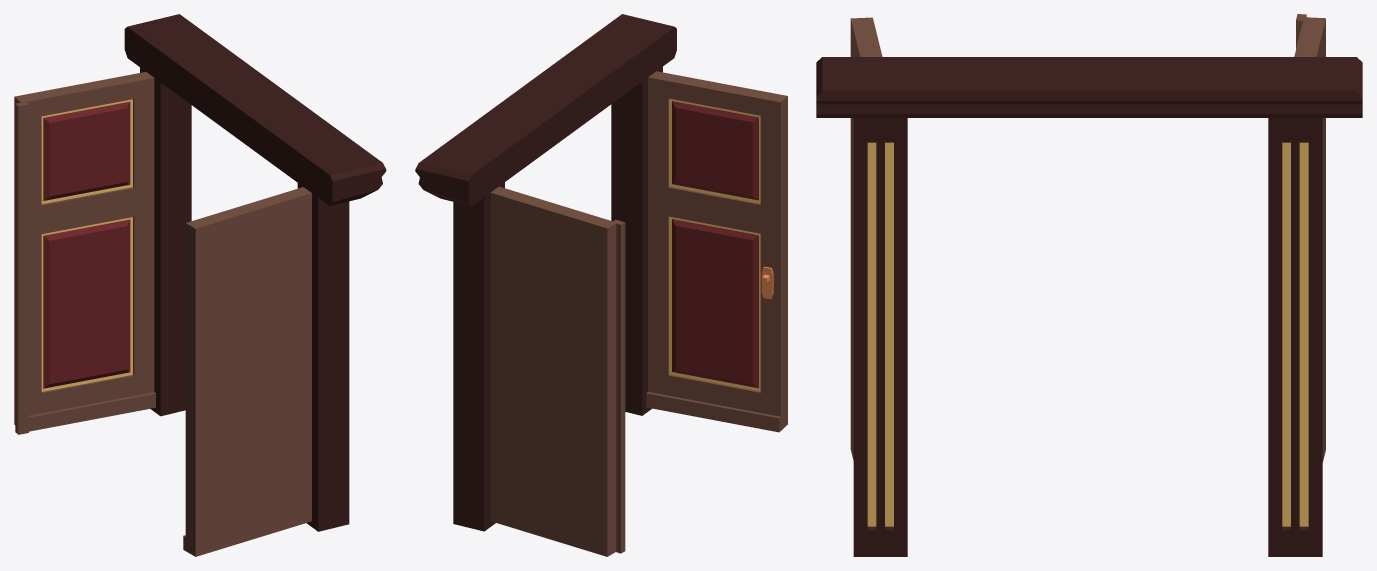
The model's file is PortaSalaDiretorFechada.fbx.
The picture shows the model from 3 angles, left to right: view 1: azimuth 30°, elevation 25°; view 2: azimuth 150°, elevation 25°; view 3: azimuth 270°, elevation 25°; orthographic projection. The views are drawn at different scales.
Visible parts, largest first — view 1: Cube.005, Cube.002, Cube.001; view 2: Cube.002, Cube.005, Cube.001; view 3: Cube.001, Cube.005, Cube.002.
Boxes of the visible parts, x1,y1,x2,y2 form: Cube.005: (14, 72, 155, 434); Cube.002: (183, 187, 311, 556); Cube.001: (124, 14, 386, 531); Cube.002: (646, 71, 787, 432); Cube.005: (490, 186, 625, 556); Cube.001: (415, 14, 676, 531); Cube.001: (816, 57, 1362, 556); Cube.005: (1294, 14, 1325, 462); Cube.002: (850, 17, 882, 460).
Bounding box in the file's own units: 293 × 553 × 570.
